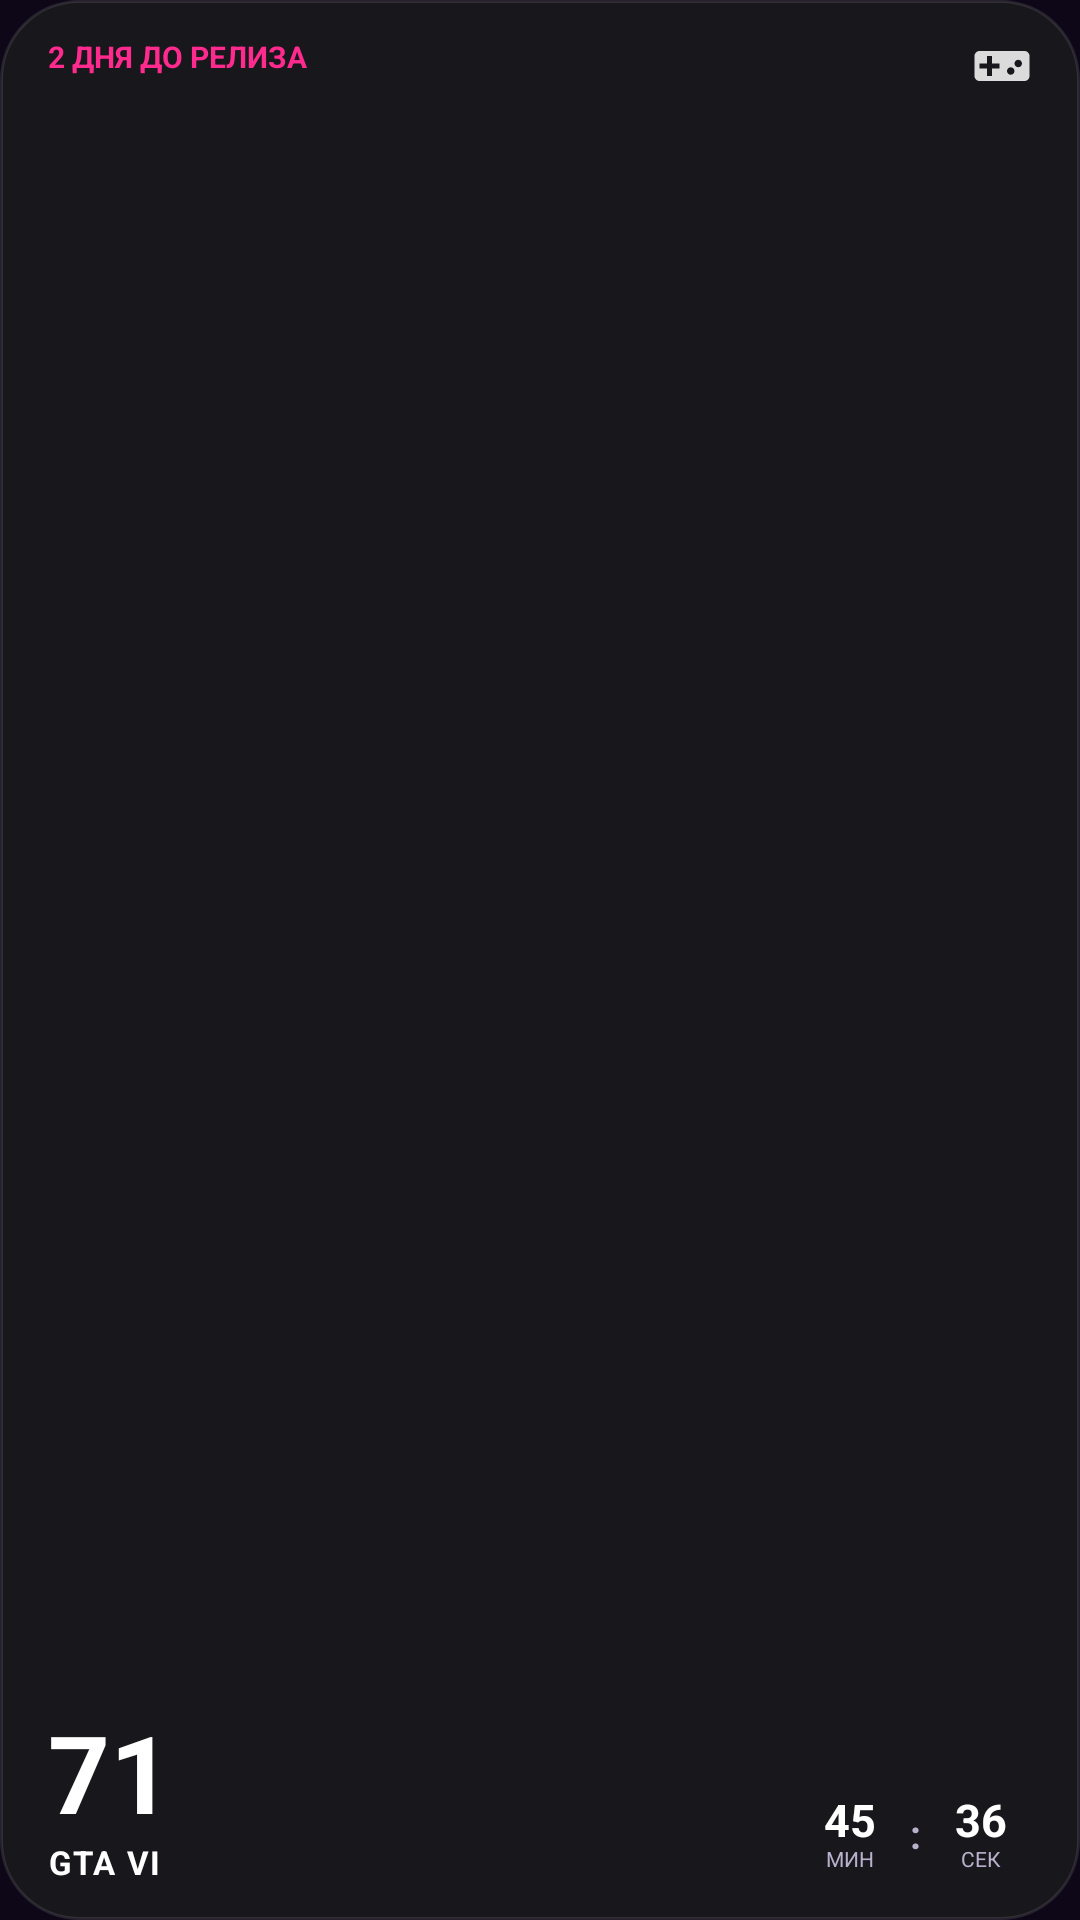

Named icons in this screenshot (1080w x 1920h) and their centers, [x,y]:
gamepad: [1002,66]
